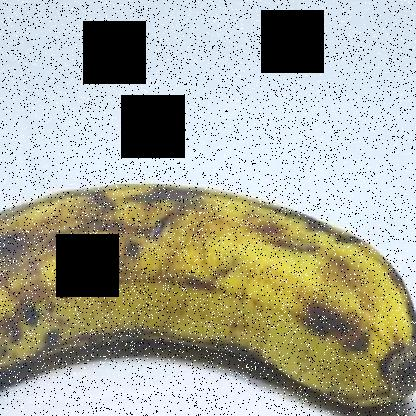overripe: (1, 168, 415, 415)
